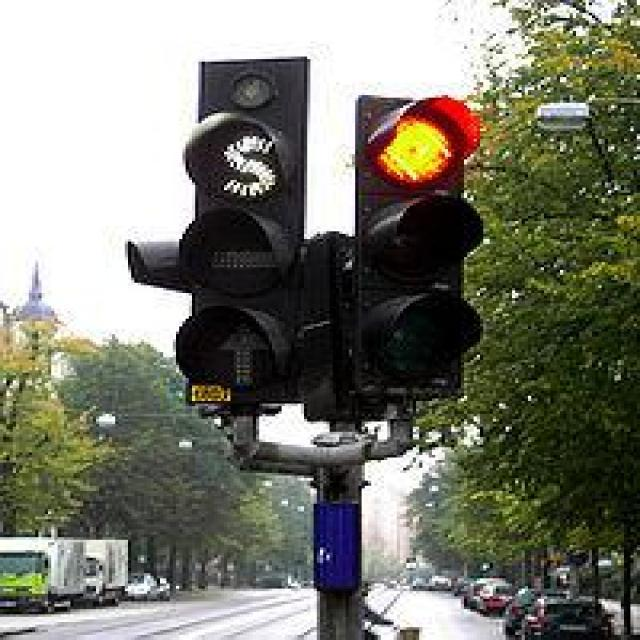red_light: (355, 98, 473, 396)
